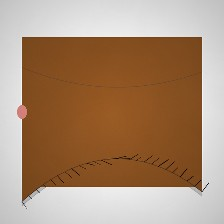pinguecula_lesion: (25, 105, 66, 138)
